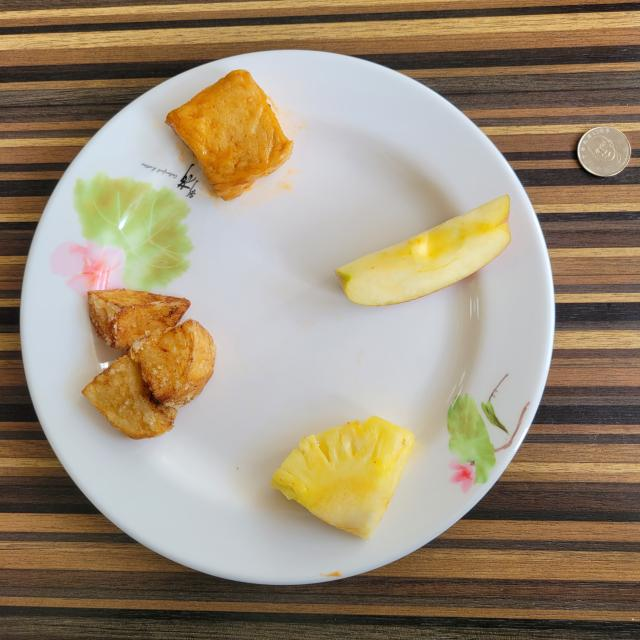apple -sliced-: (335, 195, 511, 306)
coin: (578, 126, 631, 176)
creamy tofu: (166, 70, 292, 200)
fried potato: (82, 289, 216, 439)
pineapple: (271, 416, 414, 540)
